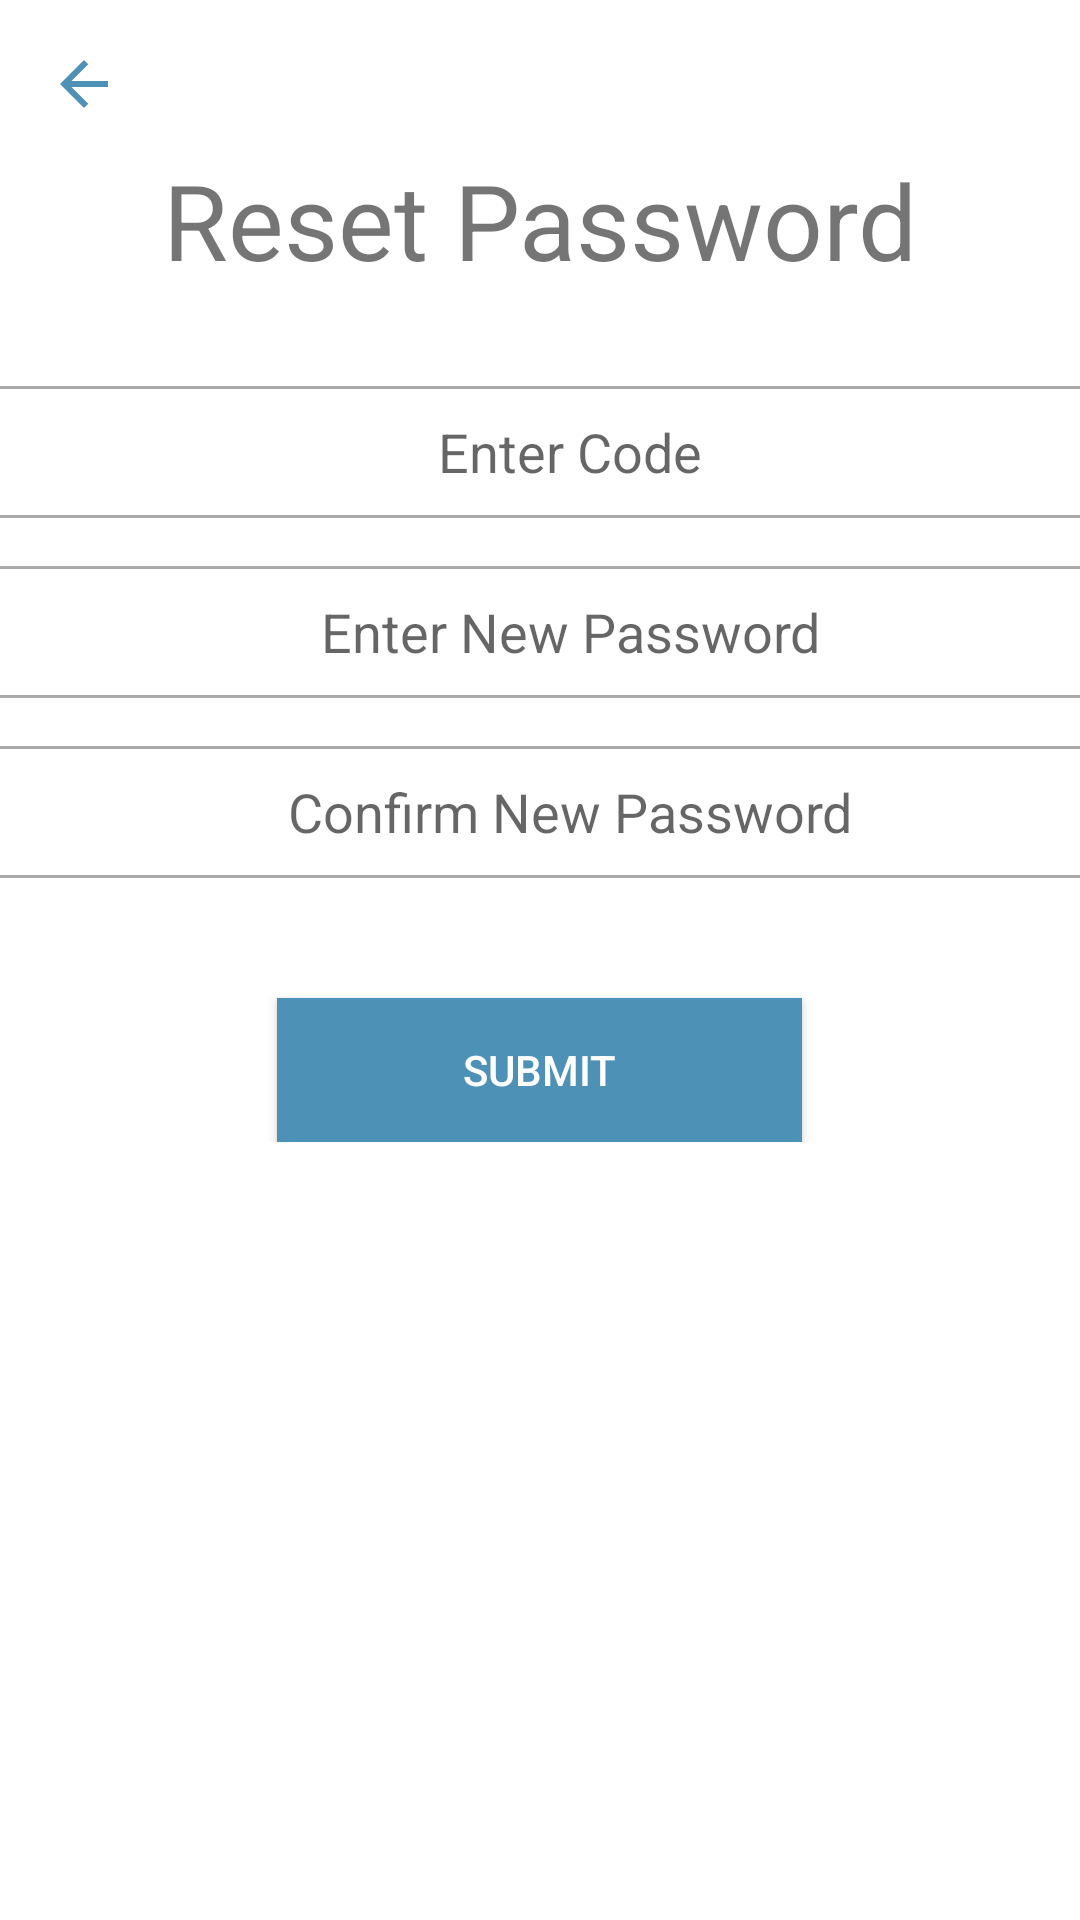

Point at icon controls on the screen. Image size 1080w x 1920h, points as point (x, y).
Return to previous page: point (84, 84)
